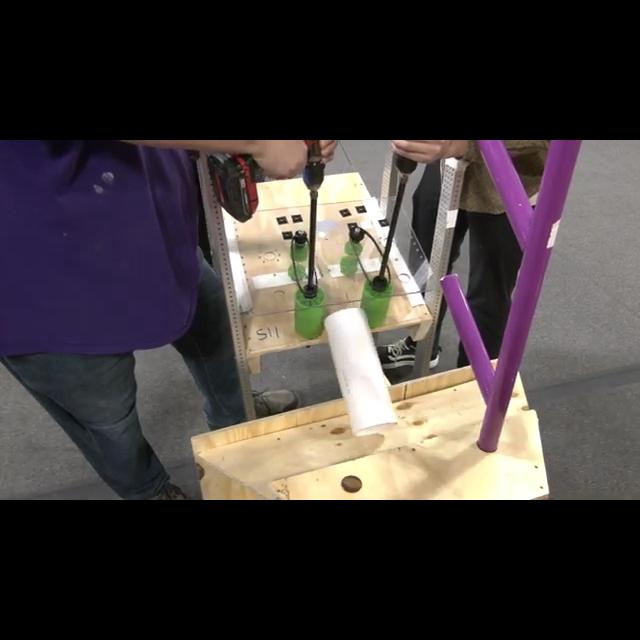CORAL: (322, 304, 398, 436)
